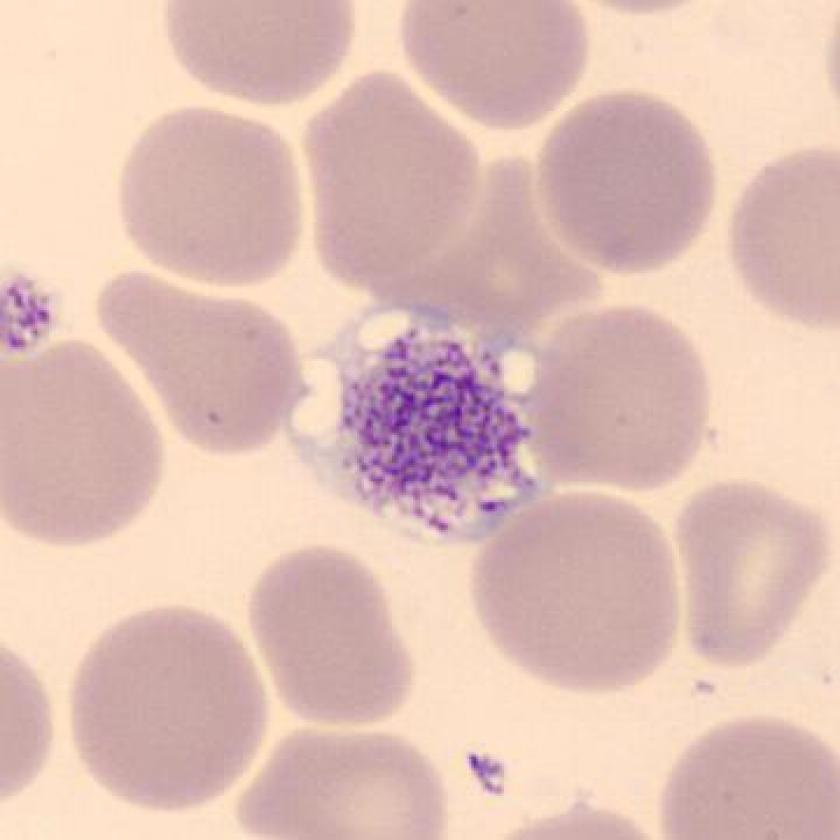platelets: (321, 302, 561, 547)
